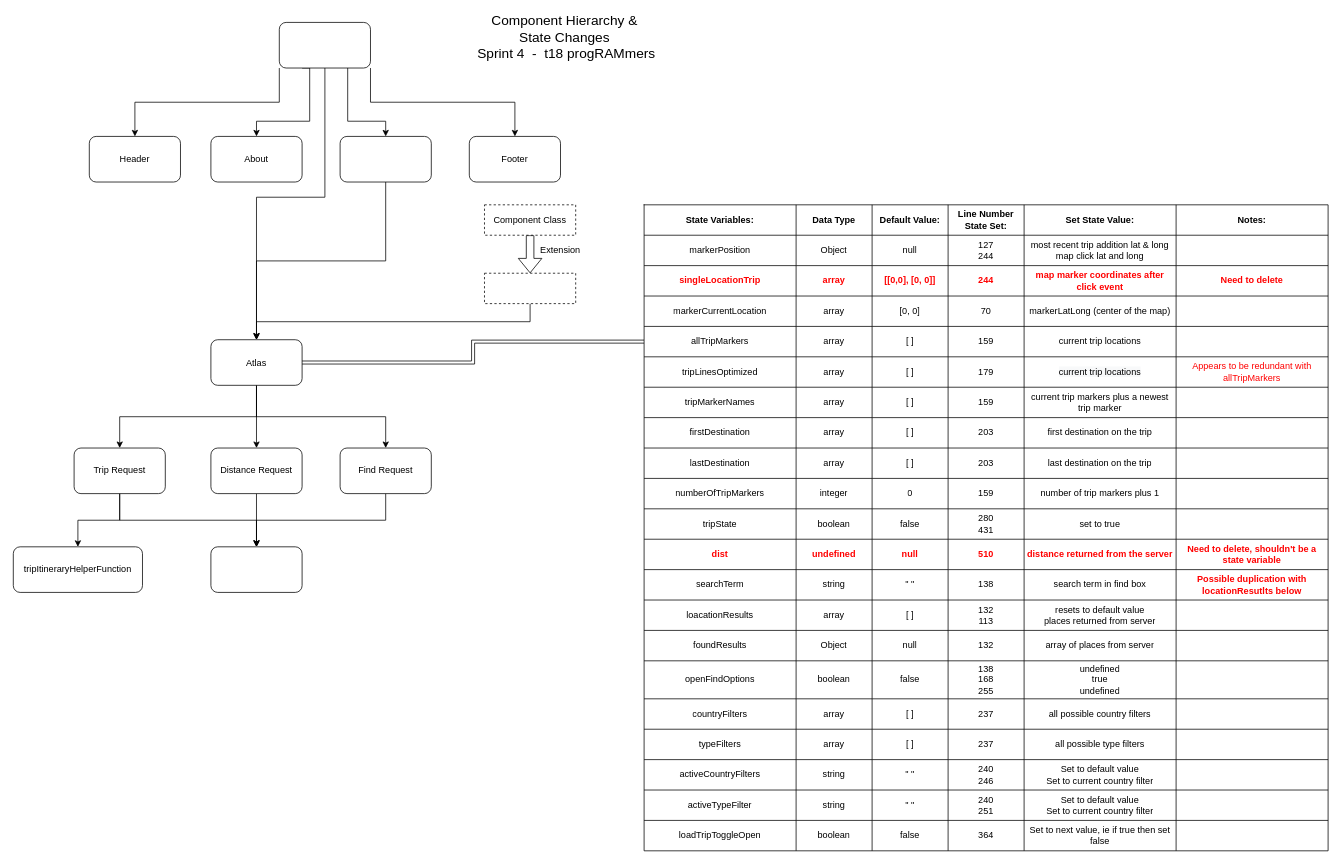
Image size: 1341x864. Some labels were removed from this diagram. Each missing label, with the centre of its shape:
App: (324,45)
Atlas Class: (530,288)
Coordinate Converter Class: (256,569)
Geolocation API: (385,159)
